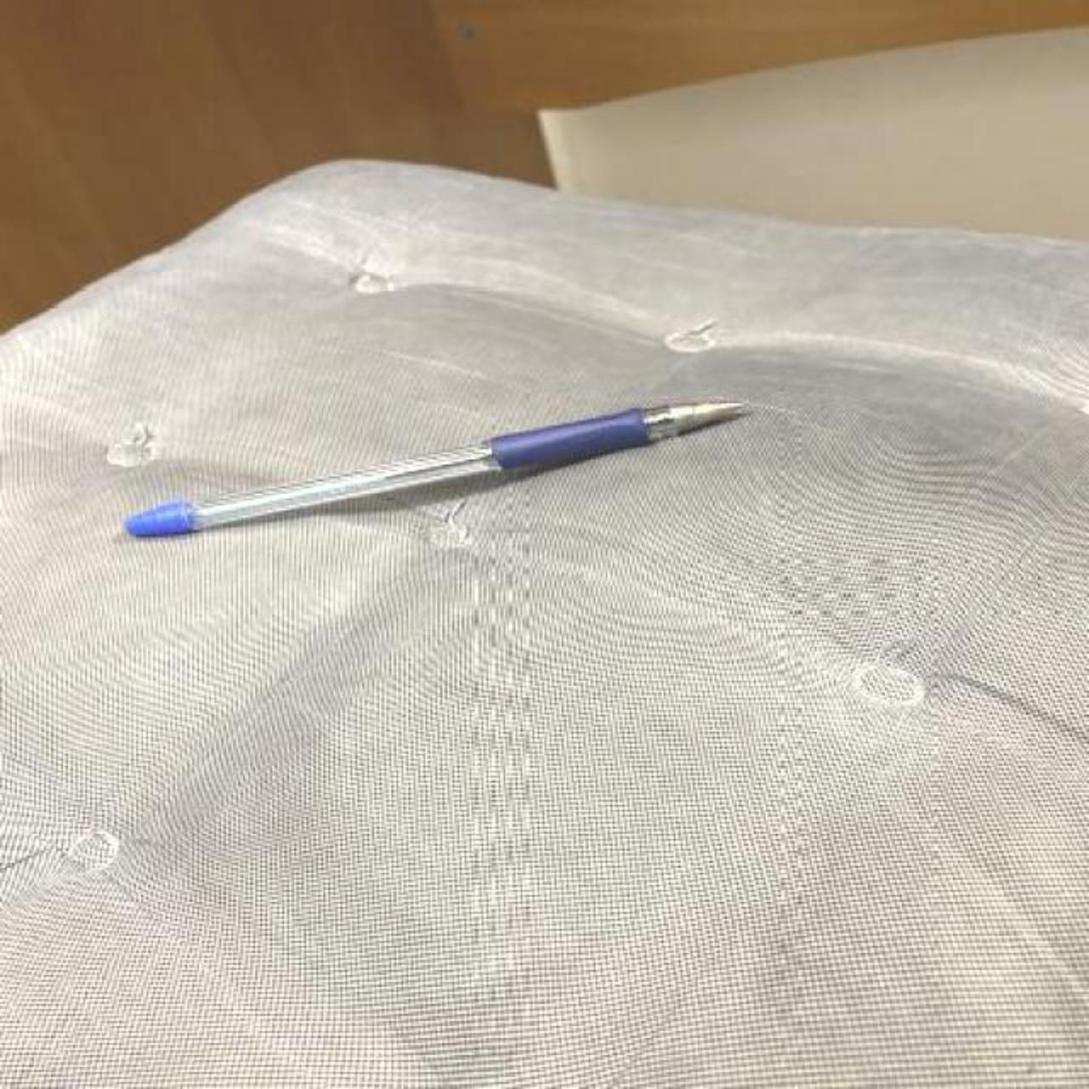pen: (123, 393, 752, 538)
